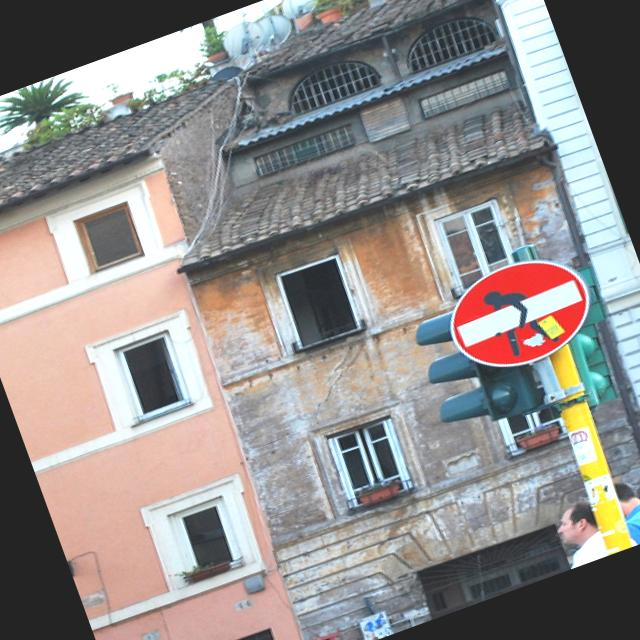Vehicle: (102, 577, 351, 640)
